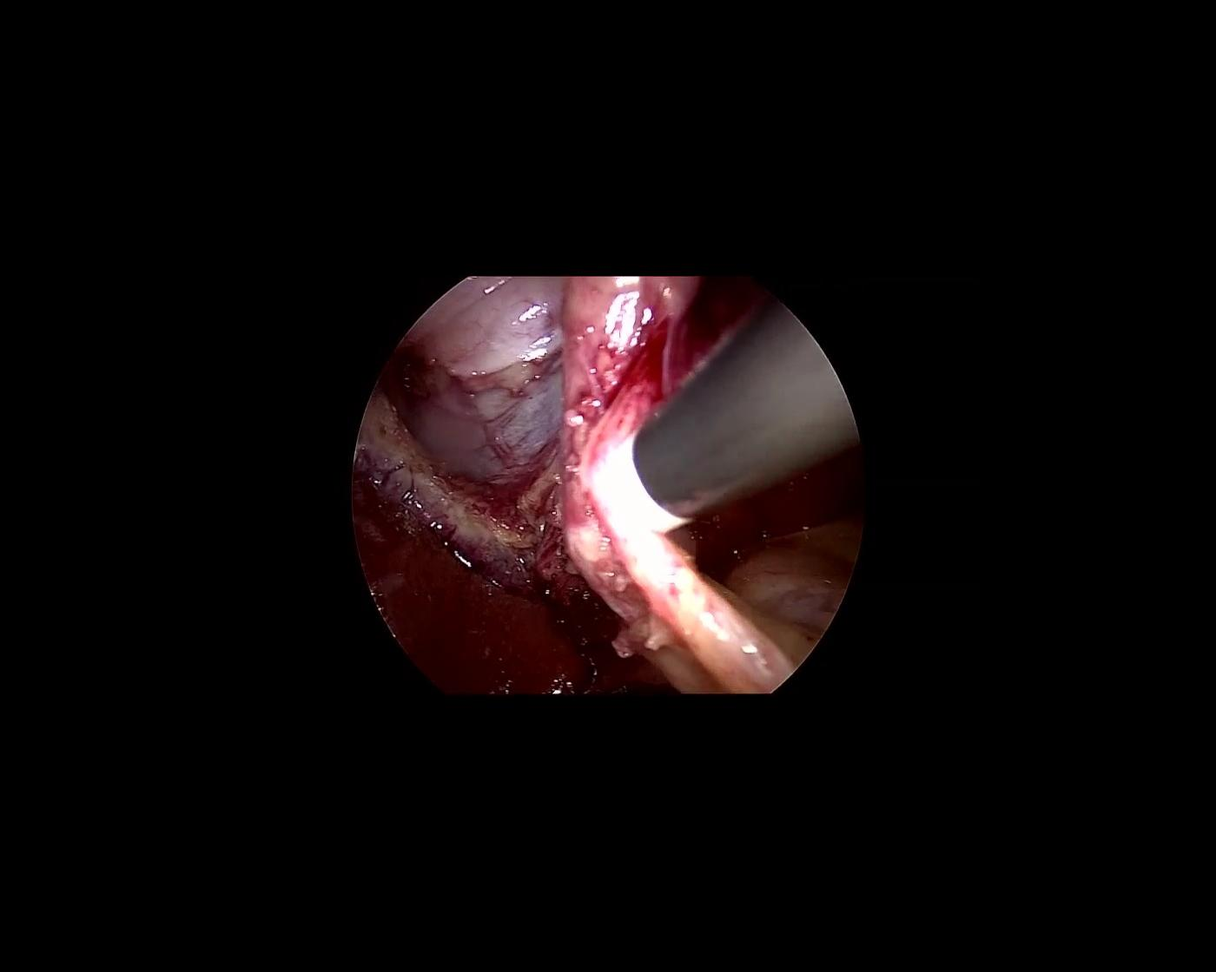Cautery: (354, 166, 717, 525), (566, 293, 865, 548)
Liver: (284, 470, 609, 756)
